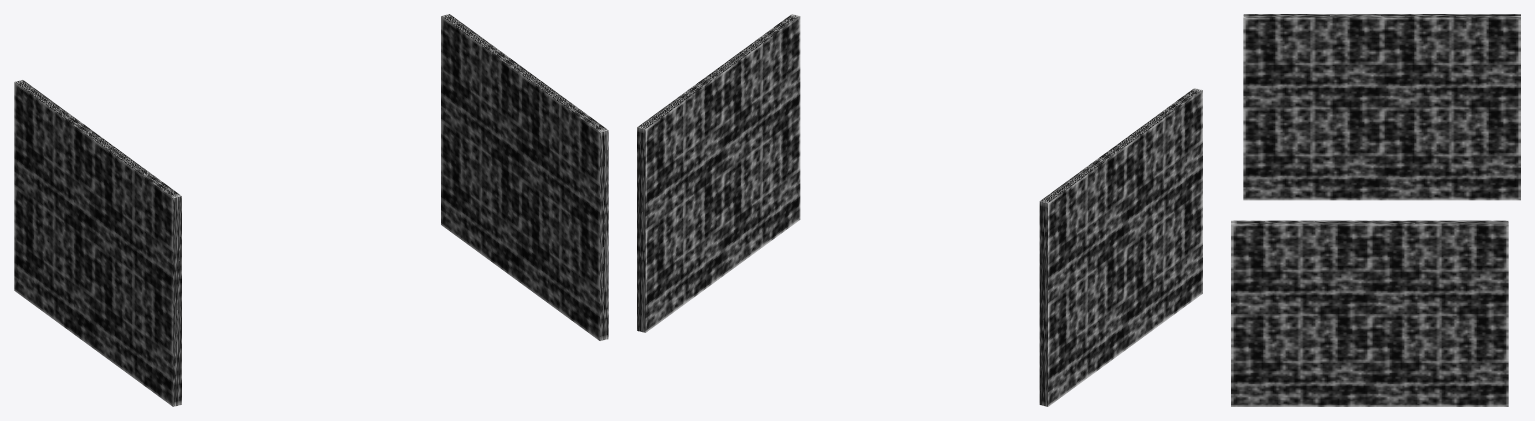
The model's file is Area4.fbx.
3 renders of one model, left to right at view 1: azimuth 30°, elevation 25°; view 2: azimuth 150°, elevation 25°; view 3: azimuth 270°, elevation 25°, orthographic. The views are drawn at different scales.
Visible parts, largest first — view 1: Cube__1_, Cube__2_; view 2: Cube__1_, Cube__2_; view 3: Cube__1_, Cube__2_.
Boxes of the visible parts, bbox=[...] form: Cube__1_: bbox=[441, 14, 608, 340]; Cube__2_: bbox=[14, 80, 181, 406]; Cube__1_: bbox=[637, 14, 800, 332]; Cube__2_: bbox=[1039, 88, 1202, 406]; Cube__1_: bbox=[1231, 220, 1508, 406]; Cube__2_: bbox=[1243, 14, 1520, 200].
Bounding box in the file's own units: 4938 × 2648 × 3309.
